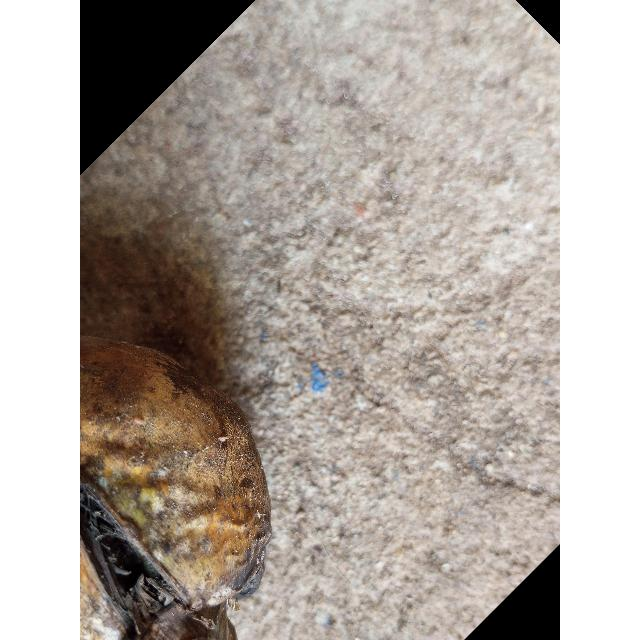damaged: (80, 337, 271, 640)
